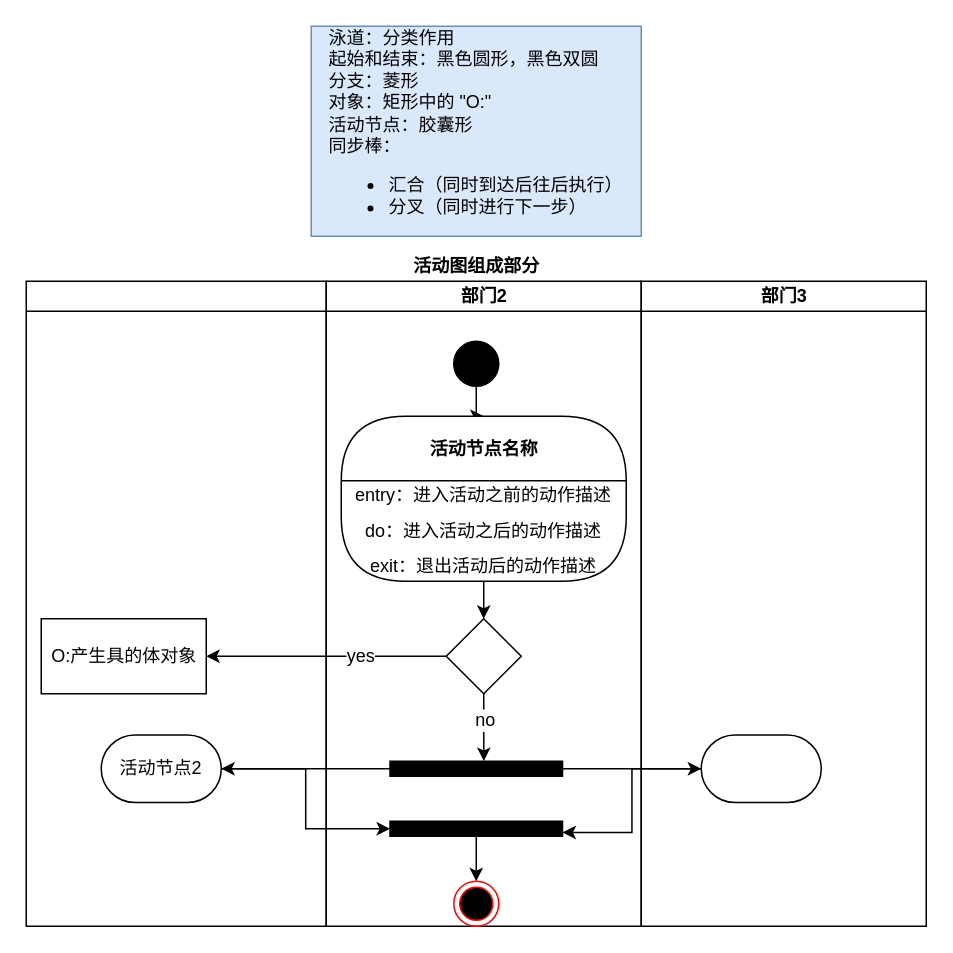
Image size: 953x953. Some labels were removed from this diagram. Each missing label, with the box of its shape:
分支: (445, 617, 521, 694)
活动节点1: (700, 734, 821, 802)
部门1: (25, 280, 326, 926)
